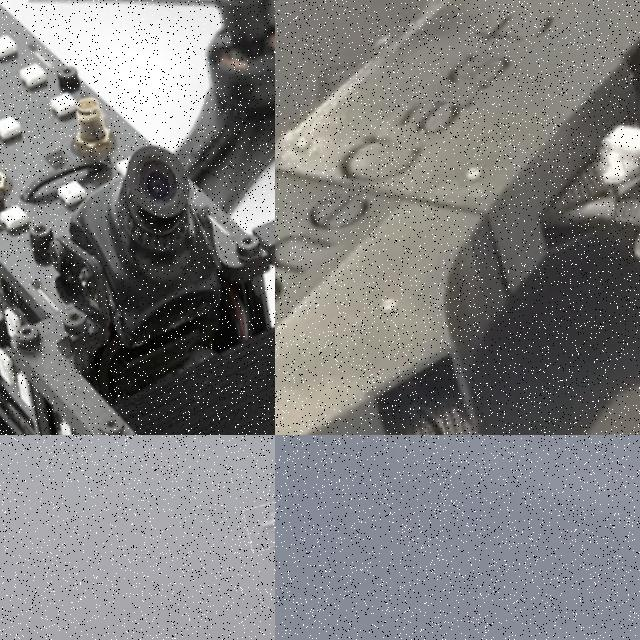0: (244, 499, 275, 548)
drone: (275, 0, 640, 435), (0, 0, 275, 435)
